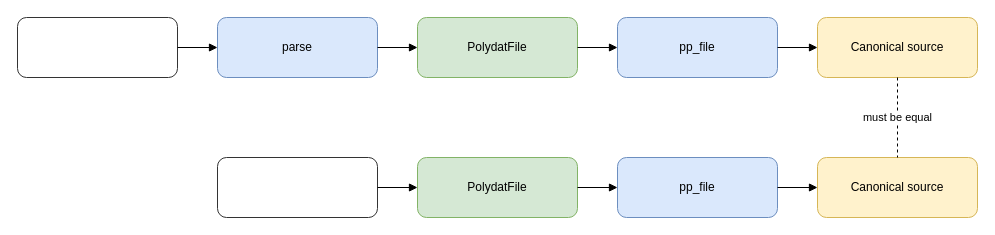
The diagram is 995 pixels wide and 235 high, and some of its shapes have lost their labels. Here are the shapes that lost their labels. From the top down, the centre of each, then its label:
the point at 97,47: Grammar source polydat_grammar.md
the point at 297,187: Builder code this document
